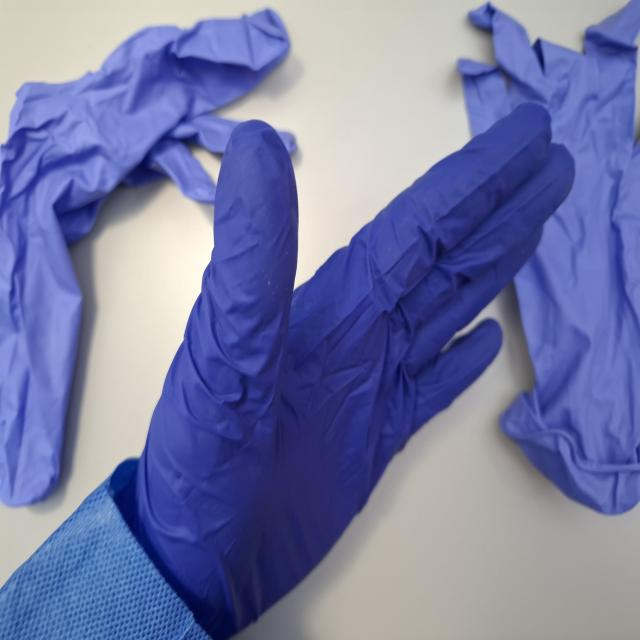glove_on: (129, 95, 578, 640)
